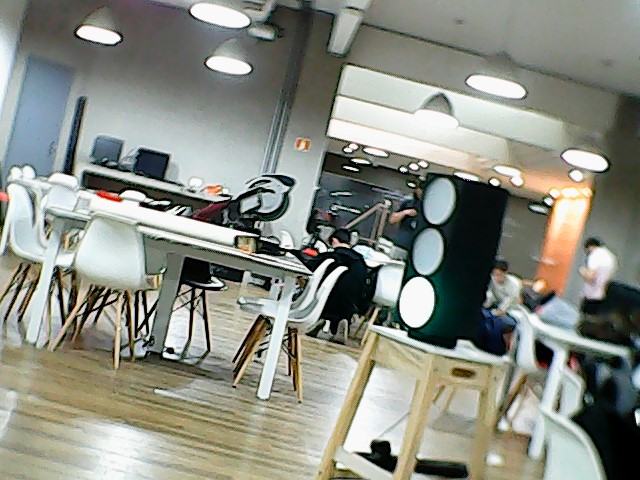verde: (388, 167, 511, 355)
